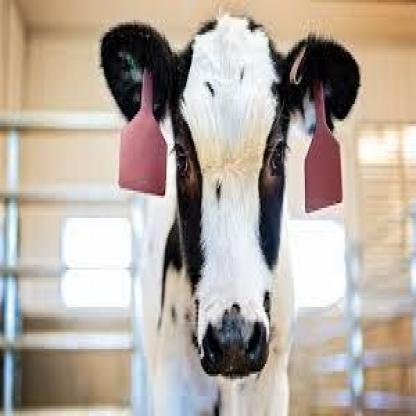cow: (103, 20, 357, 416)
